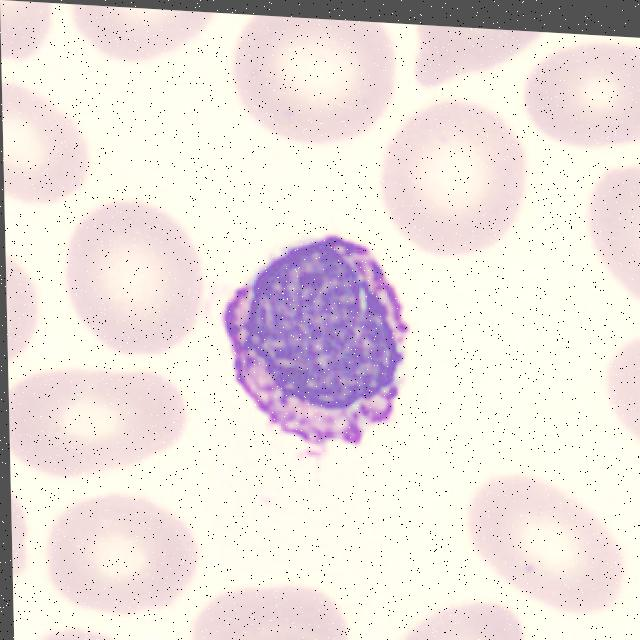basophil: (208, 227, 438, 452)
rbc: (11, 472, 226, 627), (437, 476, 638, 630), (8, 349, 202, 503), (59, 182, 210, 360), (375, 88, 527, 264), (229, 14, 407, 143), (191, 539, 366, 640), (2, 69, 96, 219), (520, 36, 640, 149), (46, 3, 236, 67), (382, 568, 541, 640), (411, 24, 557, 93), (582, 159, 640, 296), (5, 240, 47, 370), (602, 320, 640, 442), (0, 0, 68, 68), (10, 459, 35, 622), (219, 610, 336, 640), (14, 618, 147, 640)
